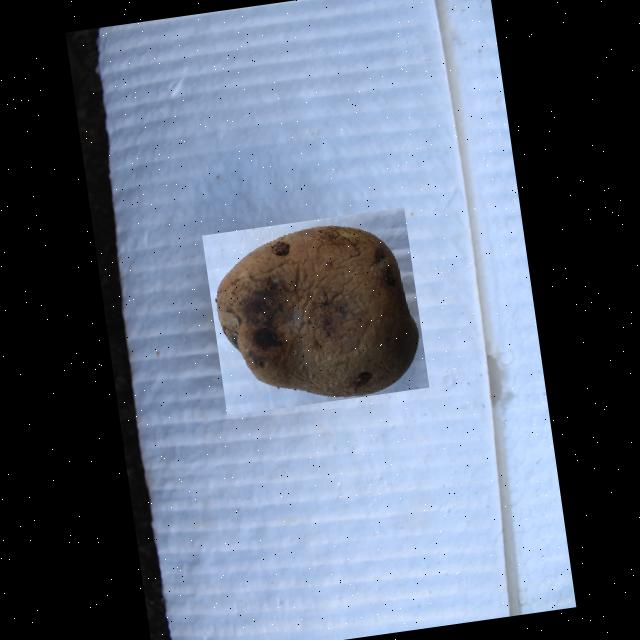Diseased-fungal potato: (202, 207, 428, 416)
